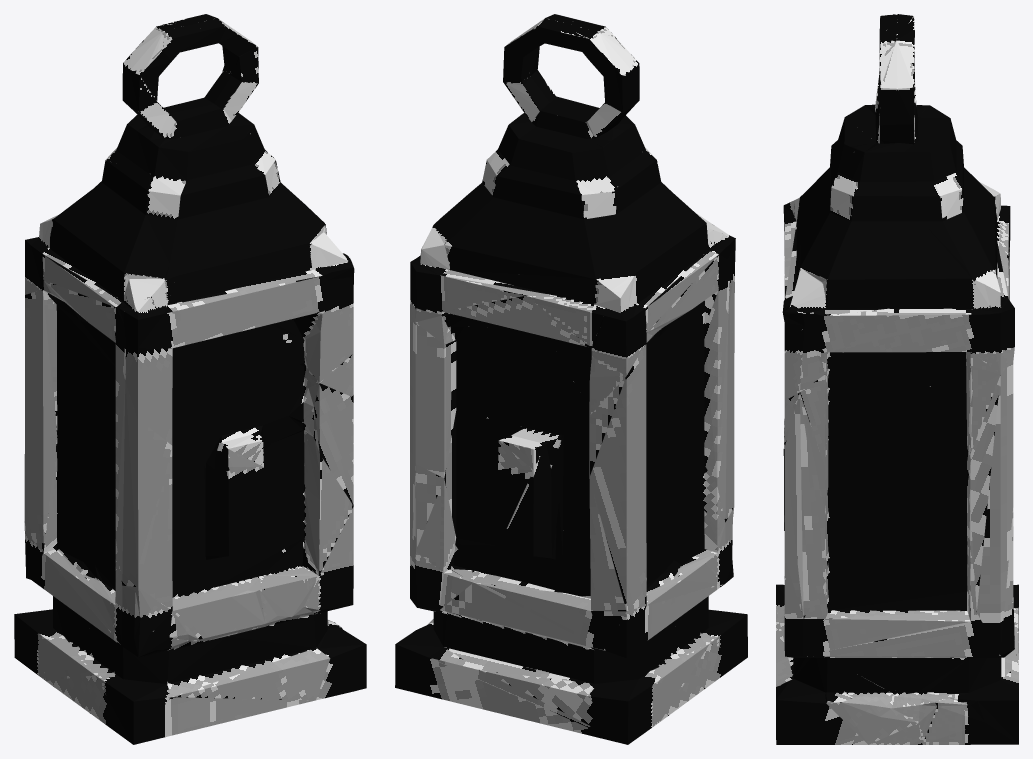
3 renders of one model, left to right at view 1: azimuth 30°, elevation 25°; view 2: azimuth 150°, elevation 25°; view 3: azimuth 270°, elevation 25°, orthographic.
Visible parts, largest first — view 1: OBJ090; view 2: OBJ090; view 3: OBJ090.
Boxes of the visible parts, <box> form: OBJ090: <box>14,14,366,744</box>; OBJ090: <box>395,14,747,744</box>; OBJ090: <box>776,14,1018,744</box>.
Bounding box in the file's own units: 0.1555 × 0.4116 × 0.1374.
1 material, 1 textured.
